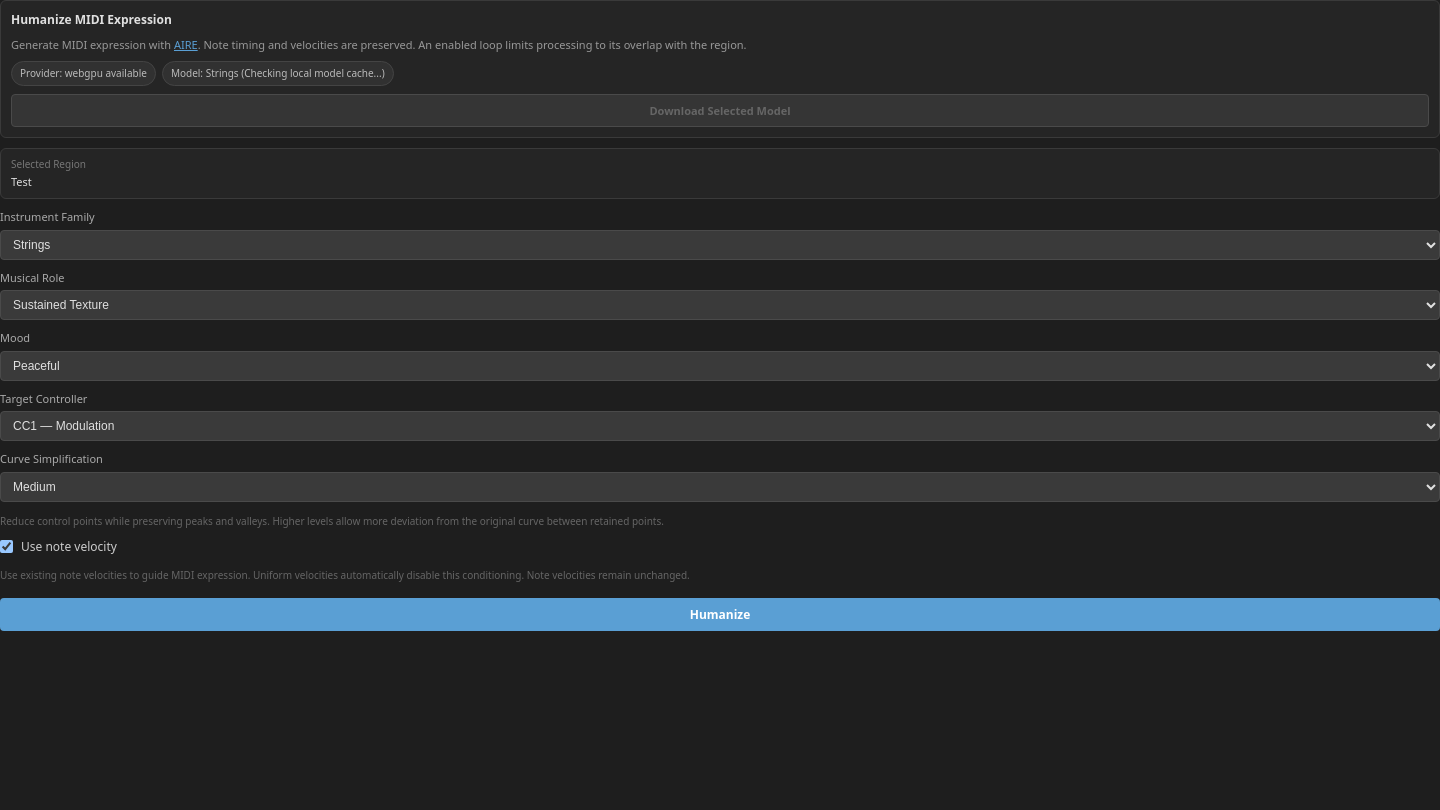
Test: Humanize tab › dismisses confirmation with close without cancelling Humanize
Click the button "Humanize" at (720, 614), box [0,598,1439,631]
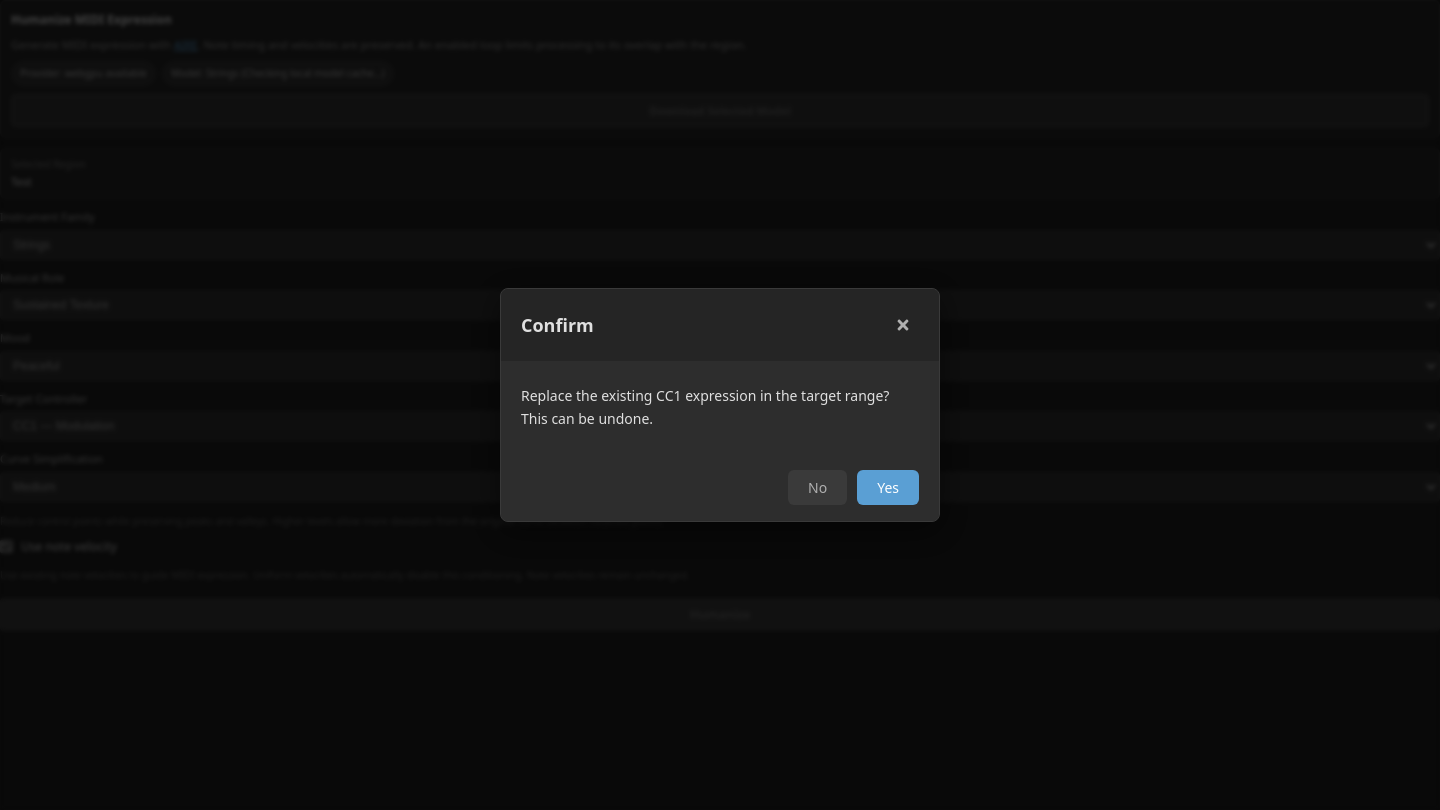
expect the element with class "humanize-form" has attribute inert: met
Click the button named "Close dialog" at (903, 325), box [887,309,919,341]
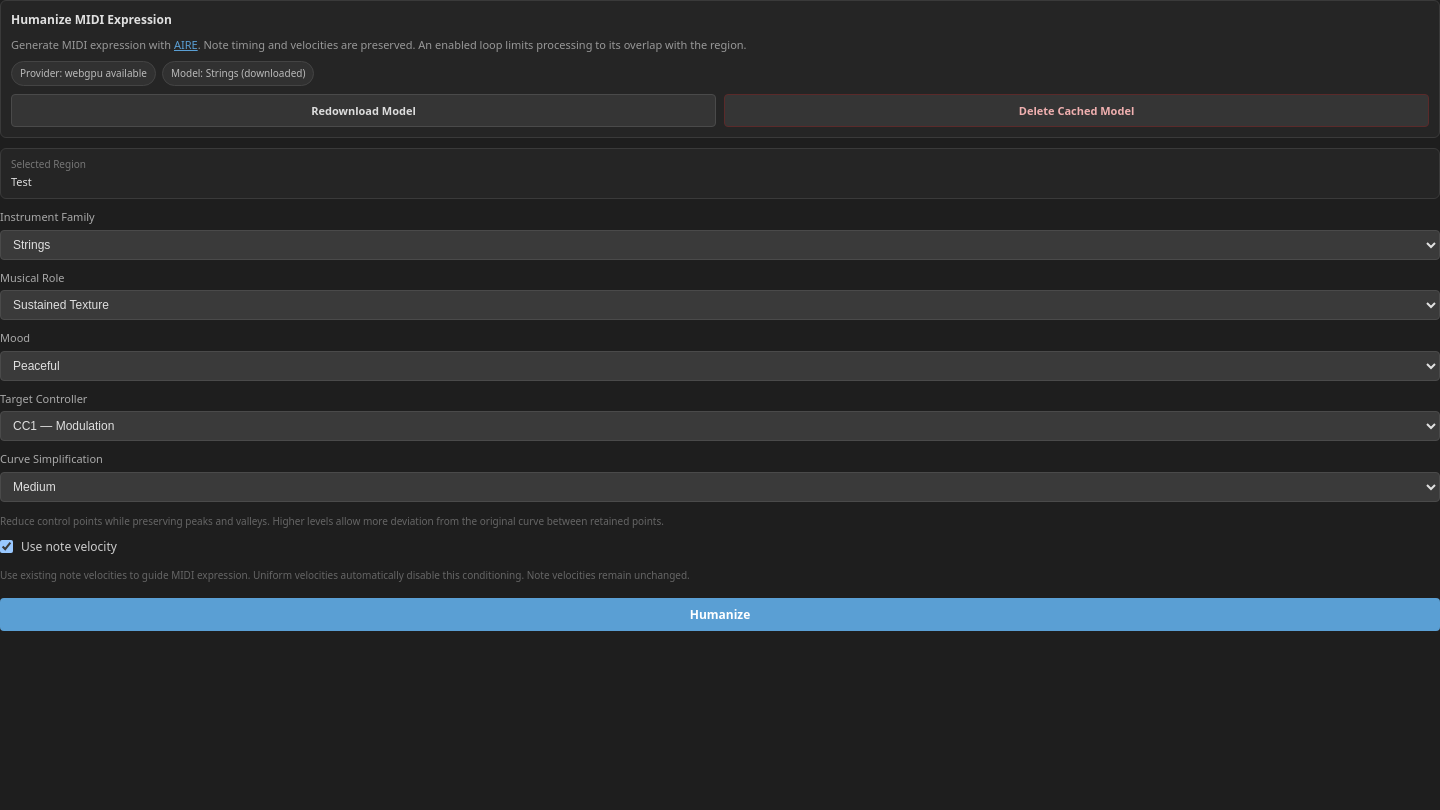
expect the dialog is gone: met
expect the button "Humanize" is enabled: met, box [0,598,1439,631]
